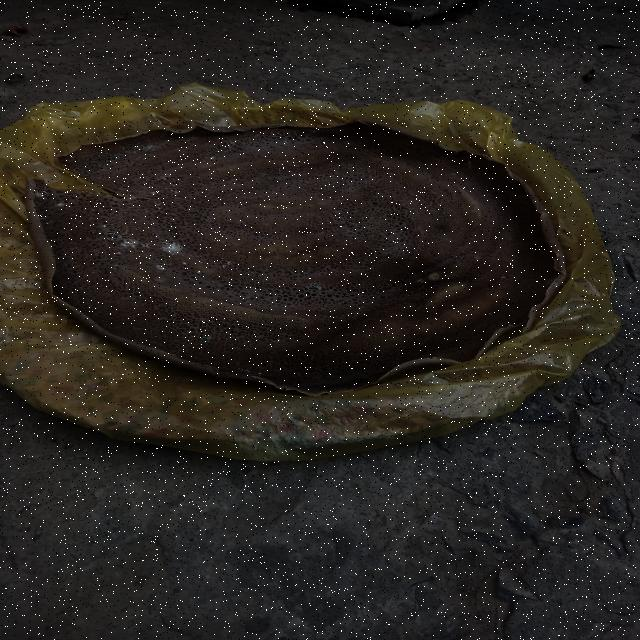injera_mold: (90, 222, 156, 258), (147, 173, 180, 205), (120, 138, 162, 154), (156, 240, 184, 256), (211, 256, 243, 270), (235, 364, 264, 378), (29, 186, 51, 202), (104, 154, 122, 164), (37, 215, 52, 226), (308, 283, 322, 293), (154, 264, 167, 272), (271, 337, 283, 345), (199, 336, 209, 345), (54, 202, 65, 208), (498, 274, 508, 280), (209, 146, 219, 152), (206, 156, 217, 160), (278, 176, 288, 180), (449, 172, 458, 176), (195, 269, 201, 274), (182, 261, 188, 266), (294, 164, 300, 169), (344, 141, 351, 145), (278, 170, 284, 174), (239, 152, 244, 156), (265, 177, 271, 180)
